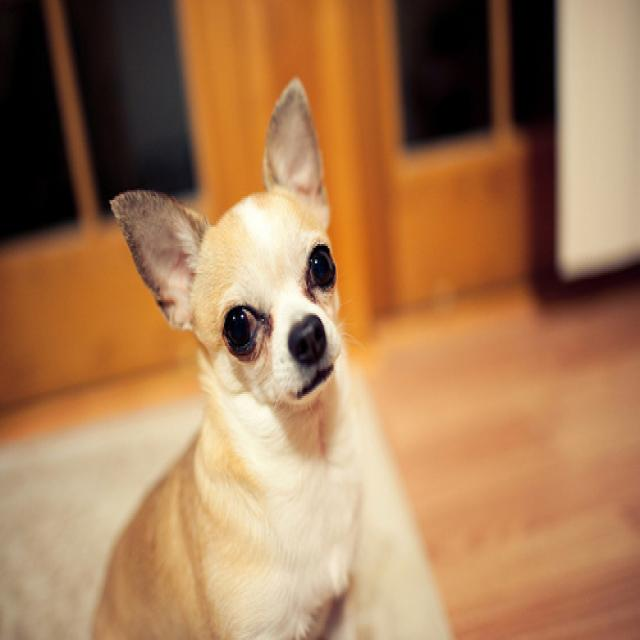dog-chihuahua: (79, 60, 374, 636)
